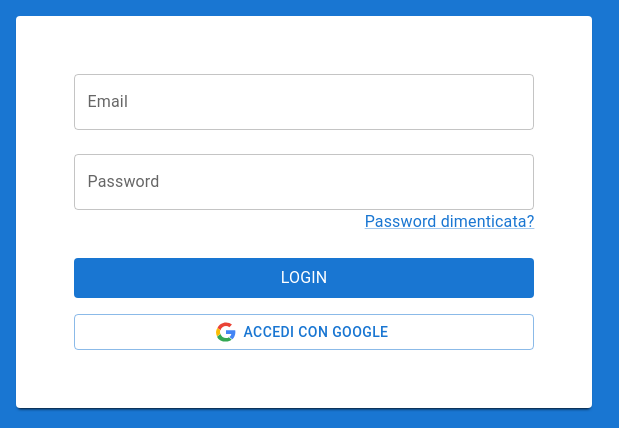
Test case: LoginForm › open and close the tooltip
Click the link "Password dimenticata?": x=450, y=222 [365,210,534,234]
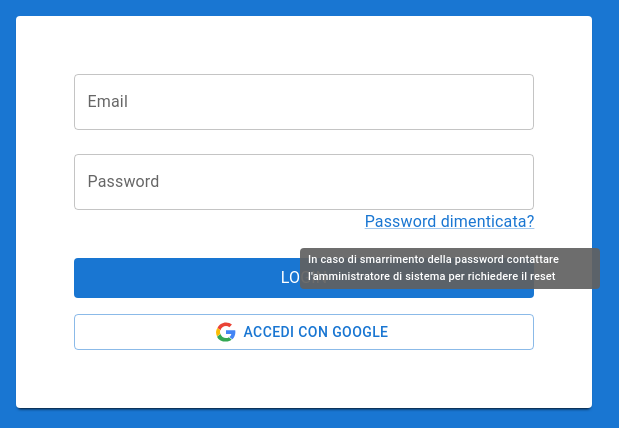
Expected: the tooltip is shown, [298,234,602,291]
Click the field labelled "Email": x=304, y=102 [74,74,534,130]
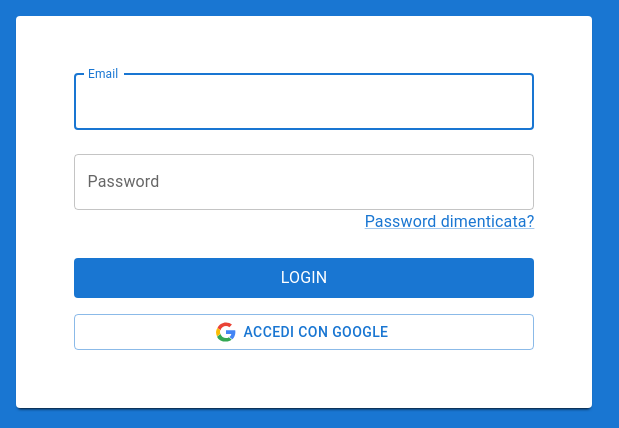
Expected: the tooltip is gone
